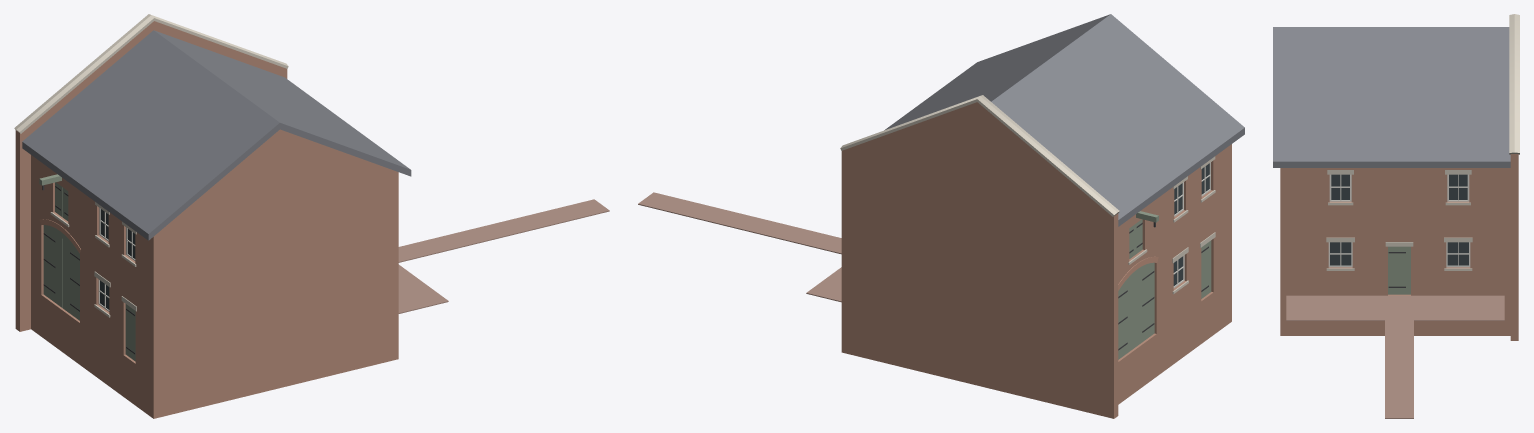
Rendered from house_1616_prairie_coach_house__as_standing_1904.glb.
3 renders of one model, left to right at view 1: azimuth 30°, elevation 25°; view 2: azimuth 150°, elevation 25°; view 3: azimuth 270°, elevation 25°, orthographic. The views are drawn at different scales.
Parts seen in each view (by area): view 1: house_1616_prairie_coach_house__as_standing_1904; view 2: house_1616_prairie_coach_house__as_standing_1904; view 3: house_1616_prairie_coach_house__as_standing_1904.
Part boxes in pixels (left/top/right/bottom): house_1616_prairie_coach_house__as_standing_1904: left=14, top=14, right=609, bottom=418; house_1616_prairie_coach_house__as_standing_1904: left=638, top=14, right=1244, bottom=418; house_1616_prairie_coach_house__as_standing_1904: left=1273, top=14, right=1519, bottom=418.
Size of the model in its own units: 23.92 by 12.16 by 10.23.
